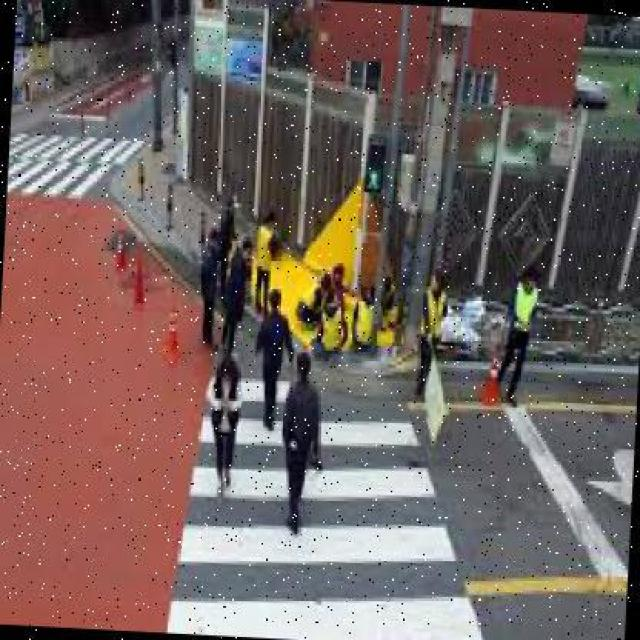Person: (275, 356, 323, 535), (249, 284, 293, 425), (201, 358, 244, 500), (497, 265, 538, 410), (219, 234, 256, 351), (416, 270, 446, 404), (193, 224, 222, 338), (252, 205, 282, 313)
